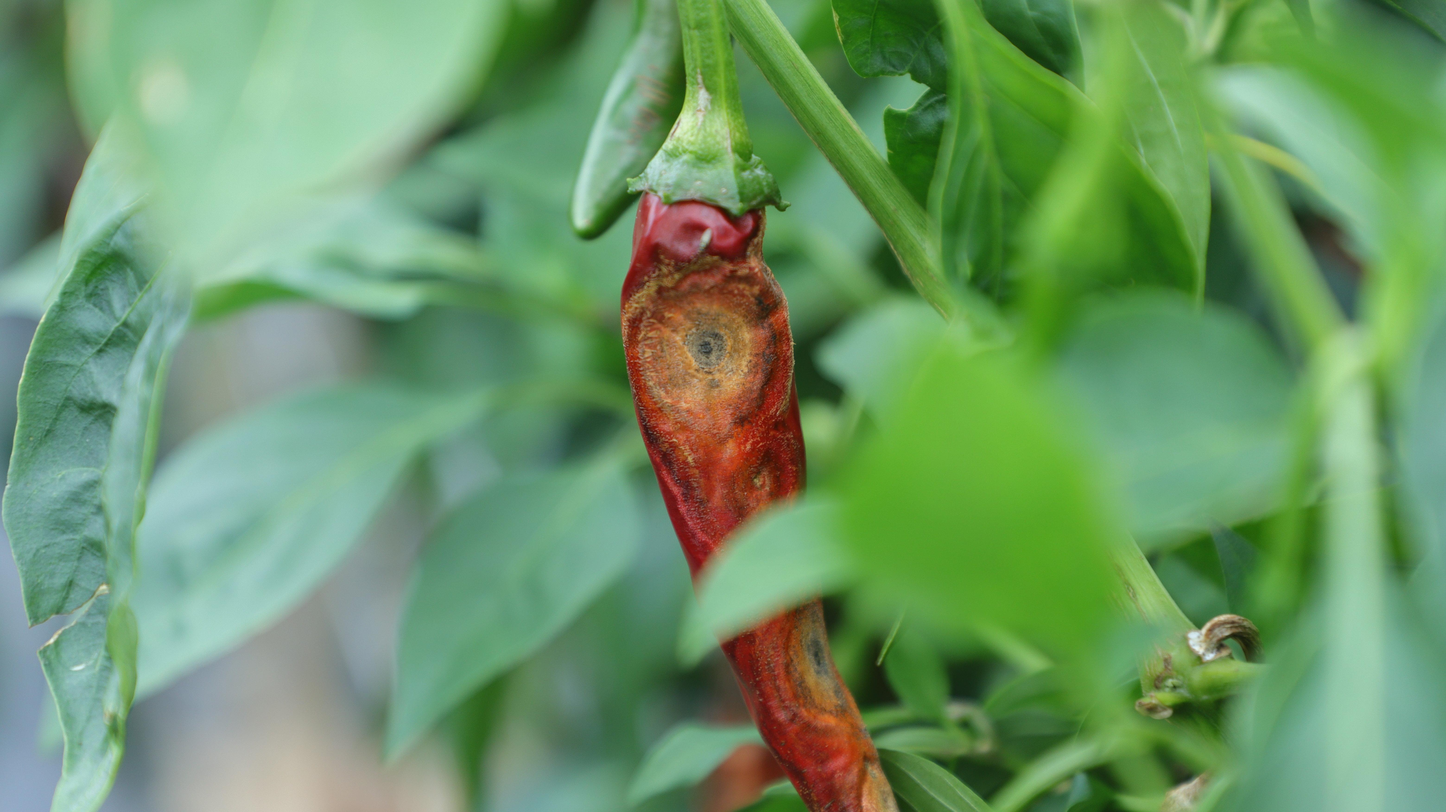Busuk Buah Antraknosa: (616, 149, 899, 812)
